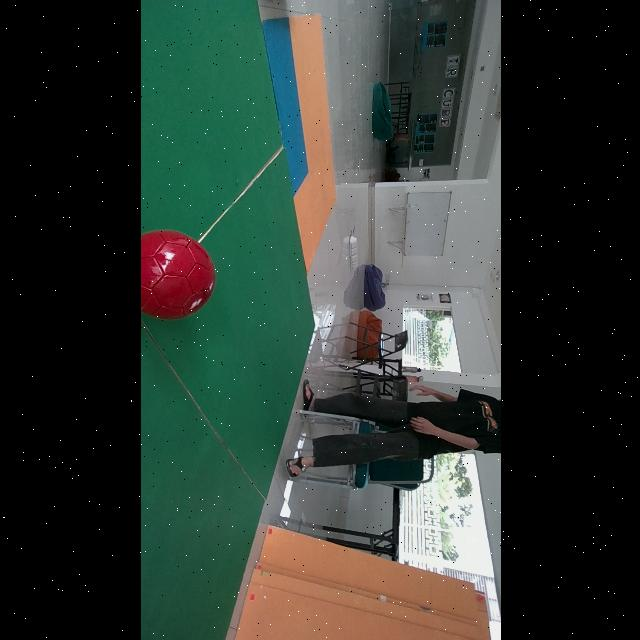R: (140, 230, 214, 319)
